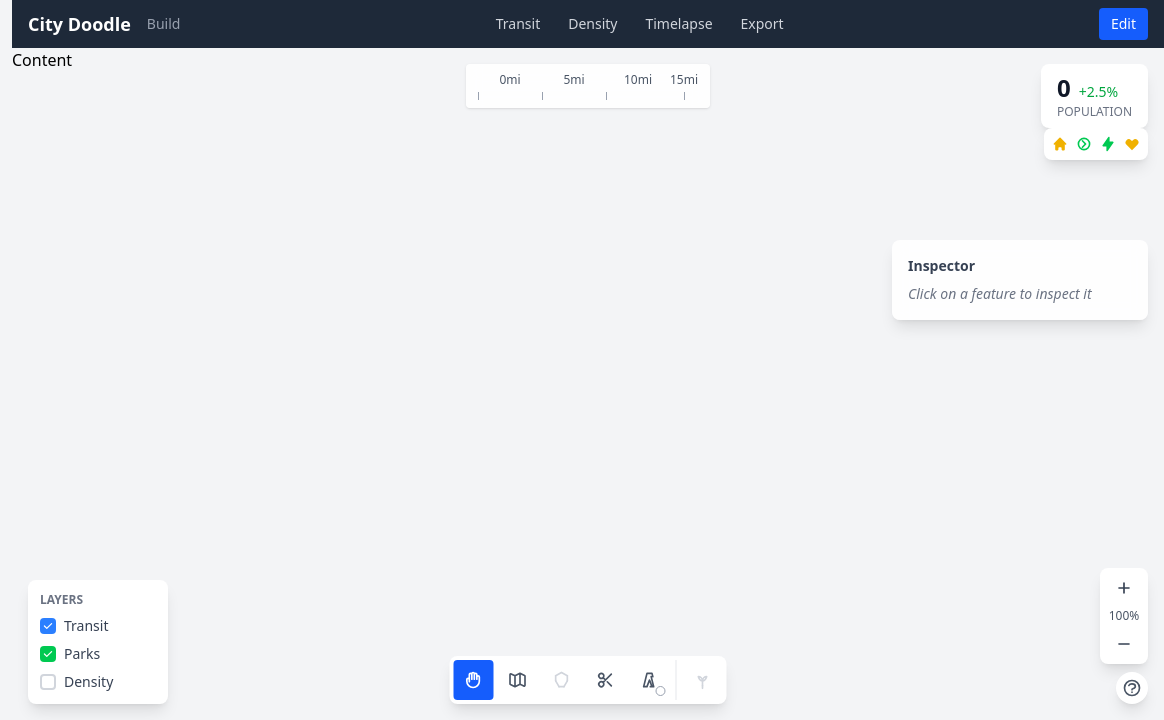
Test: EditorShell › switches view modes when tabs are clicked
Expected: the text "Build" is shown, left=147, top=14, right=180, bottom=34
Click the button "Transit" at (518, 24), box left=484, top=8, right=552, bottom=40
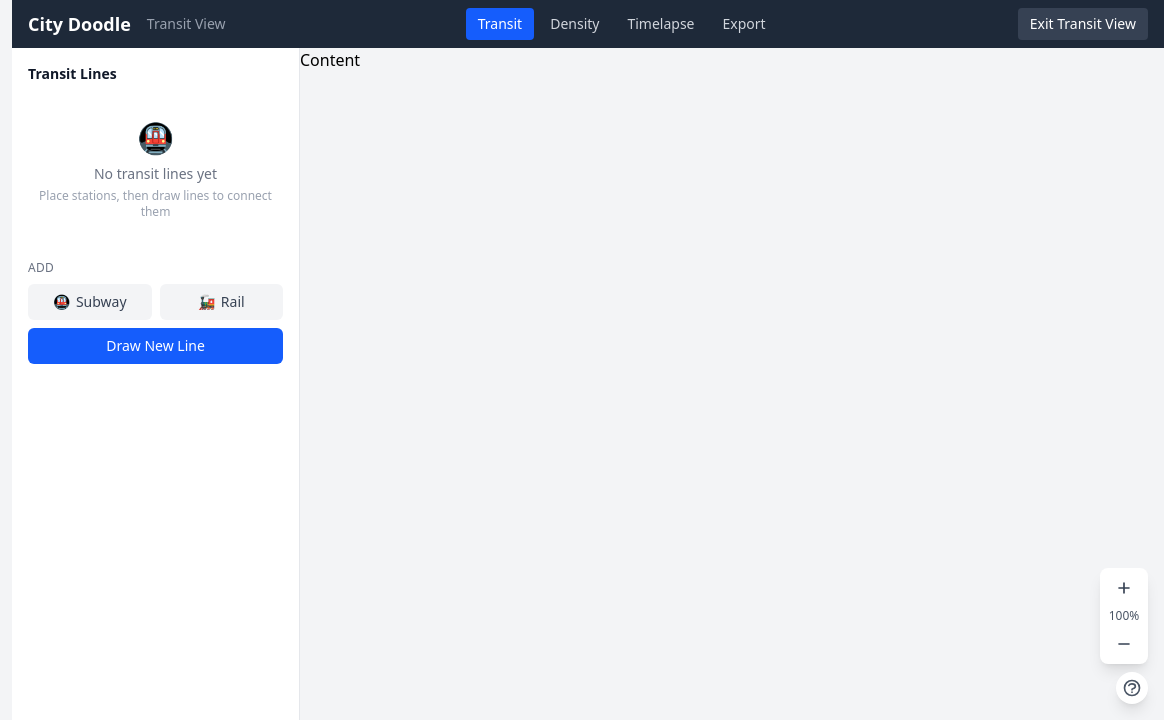
Expected: the text "Transit View" is shown, left=147, top=14, right=226, bottom=34
Expected: the button "Exit Transit View" is shown, left=1018, top=8, right=1148, bottom=40
